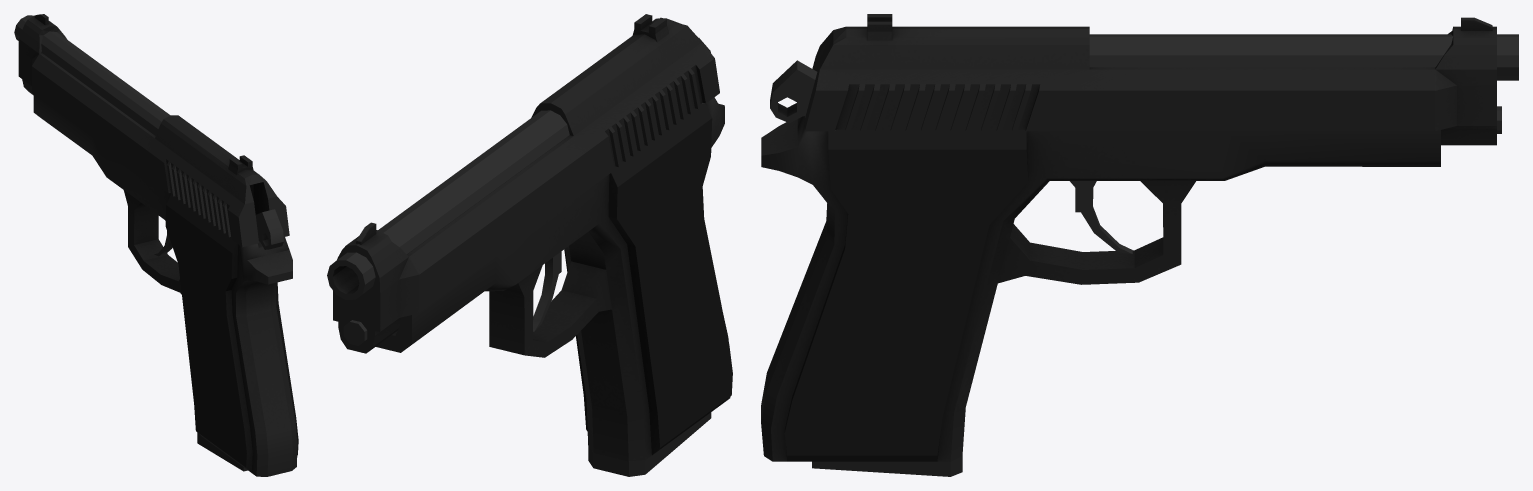
The model's file is Pistol_9mm.fbx.
The picture shows the model from 3 angles, left to right: view 1: azimuth 30°, elevation 25°; view 2: azimuth 150°, elevation 25°; view 3: azimuth 270°, elevation 25°; orthographic projection. The views are drawn at different scales.
Parts seen in each view (by area): view 1: Pistol_9mm_Grip, Pistol_9mm_Slide, Pistol_9mm_Barrel, Pistol_9mm_Hammer, Pistol_9mm_Magazine; view 2: Pistol_9mm_Grip, Pistol_9mm_Slide, Pistol_9mm_Barrel, Pistol_9mm_Magazine, Pistol_9mm_Trigger, Pistol_9mm_LowerBarrel; view 3: Pistol_9mm_Grip, Pistol_9mm_Slide, Pistol_9mm_Barrel, Pistol_9mm_Hammer, Pistol_9mm_Magazine, Pistol_9mm_Trigger.
Boxes of the visible parts, x1,y1,x2,y2 form: Pistol_9mm_Grip: (33,95,298,476); Pistol_9mm_Slide: (18,14,289,247); Pistol_9mm_Barrel: (14,15,170,135); Pistol_9mm_Hammer: (255,209,283,249); Pistol_9mm_Magazine: (197,433,247,471); Pistol_9mm_Grip: (376,97,732,461); Pistol_9mm_Slide: (333,14,719,353); Pistol_9mm_Barrel: (327,110,569,299); Pistol_9mm_Magazine: (588,412,711,476); Pistol_9mm_Trigger: (533,251,561,331); Pistol_9mm_LowerBarrel: (343,320,367,345); Pistol_9mm_Grip: (761,116,1440,461); Pistol_9mm_Slide: (805,14,1496,145); Pistol_9mm_Barrel: (1089,34,1518,80); Pistol_9mm_Hammer: (770,60,817,123); Pistol_9mm_Magazine: (812,456,962,476); Pistol_9mm_Trigger: (1070,181,1132,253).
Size of the model in its own units: 2.63 by 14.37 by 22.21.
